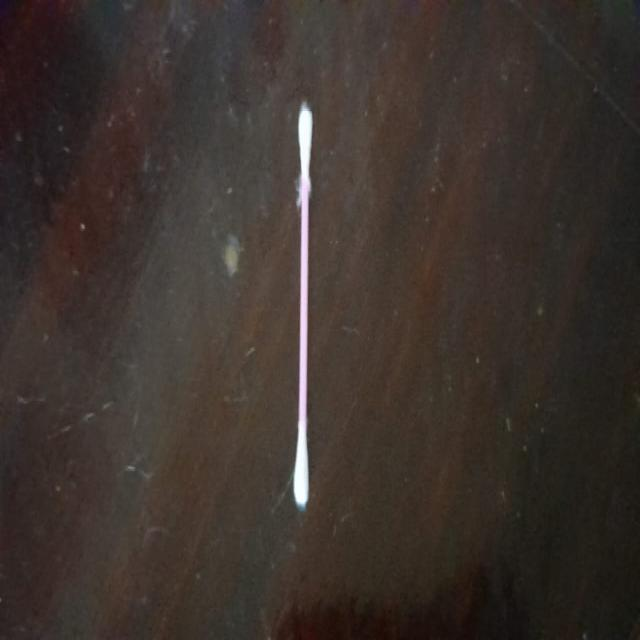Earbud - Non Recyclable: (292, 100, 314, 511)
